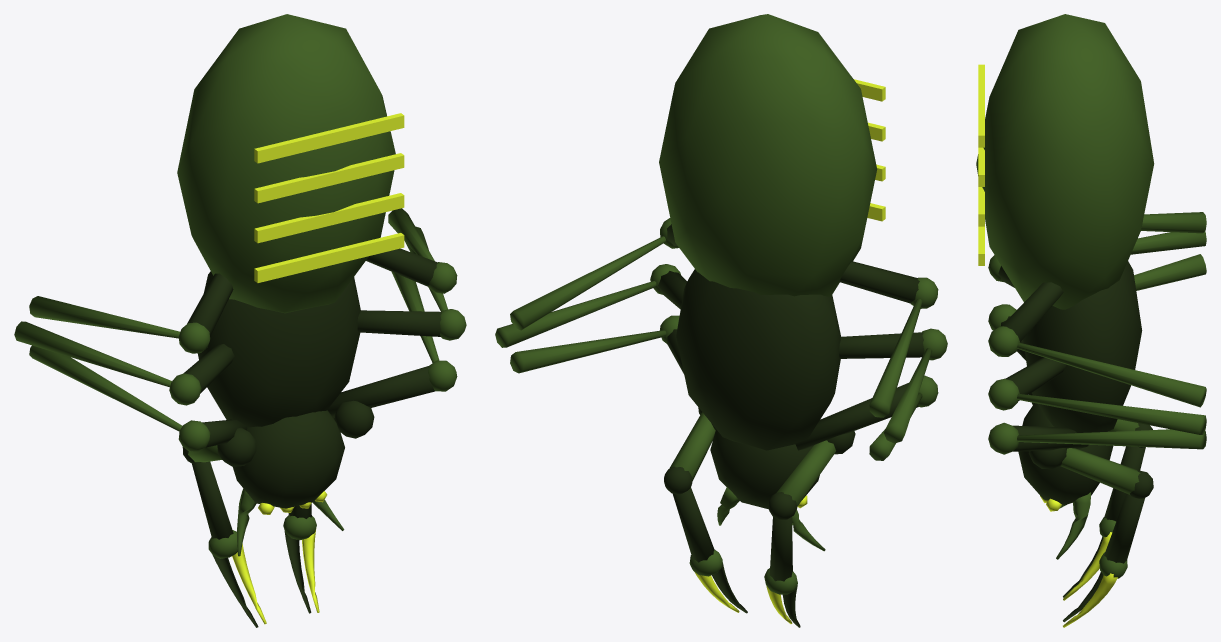
Rendered from shooter-crawler.glb.
3 renders of one model, left to right at view 1: azimuth 30°, elevation 25°; view 2: azimuth 150°, elevation 25°; view 3: azimuth 270°, elevation 25°, orthographic.
Visible parts, largest first — view 1: Body Mesh, Head Mesh, ClawR Elbow Mesh, LegA 2 Down Mesh, LegB 0 Down Mesh, LegB 4 Down Mesh, LegA 1 Mesh, ClawL Elbow Mesh, LegB 3 Mesh, LegA 5 Mesh, ClawR Mesh, LegB 4 Mesh (+11 smaller); view 2: Body Mesh, Head Mesh, ClawL Elbow Mesh, ClawR Elbow Mesh, LegA 5 Down Mesh, LegA 1 Down Mesh, LegB 3 Down Mesh, ClawR Mesh, LegB 0 Mesh, LegB 4 Mesh, LegB 4 Down Mesh, LegA 2 Mesh (+3 smaller); view 3: Body Mesh, Head Mesh, ClawL Elbow Mesh, LegA 5 Down Mesh, LegB 3 Down Mesh, LegA 1 Down Mesh, ClawL Mesh, ClawR Elbow Mesh, LegA 5 Mesh, LegB 0 Down Mesh, LegB 4 Down Mesh, LegA 2 Down Mesh (+6 smaller).
Part boxes in pixels (bbox=[...]): Body Mesh: bbox=[177, 14, 404, 427]; Head Mesh: bbox=[233, 410, 344, 556]; ClawR Elbow Mesh: bbox=[182, 447, 266, 627]; LegA 2 Down Mesh: bbox=[14, 321, 171, 387]; LegB 0 Down Mesh: bbox=[29, 345, 182, 431]; LegB 4 Down Mesh: bbox=[29, 296, 180, 338]; LegA 1 Mesh: bbox=[327, 366, 435, 417]; ClawL Elbow Mesh: bbox=[283, 504, 319, 613]; LegB 3 Mesh: bbox=[357, 310, 441, 336]; LegA 5 Mesh: bbox=[366, 248, 438, 286]; ClawR Mesh: bbox=[188, 427, 256, 466]; LegB 4 Mesh: bbox=[187, 273, 233, 336]; Body Mesh: bbox=[659, 14, 885, 450]; Head Mesh: bbox=[710, 429, 825, 551]; ClawL Elbow Mesh: bbox=[664, 466, 747, 613]; ClawR Elbow Mesh: bbox=[764, 492, 800, 627]; LegA 5 Down Mesh: bbox=[510, 236, 666, 330]; LegA 1 Down Mesh: bbox=[510, 330, 666, 373]; LegB 3 Down Mesh: bbox=[495, 281, 656, 347]; ClawR Mesh: bbox=[776, 431, 855, 506]; LegB 0 Mesh: bbox=[795, 383, 918, 450]; LegB 4 Mesh: bbox=[839, 261, 919, 303]; LegB 4 Down Mesh: bbox=[869, 298, 922, 417]; LegA 2 Mesh: bbox=[839, 332, 924, 358]; Body Mesh: bbox=[976, 14, 1154, 432]; Head Mesh: bbox=[1018, 403, 1113, 559]; ClawL Elbow Mesh: bbox=[1063, 470, 1153, 627]; LegA 5 Down Mesh: bbox=[1017, 342, 1206, 407]; LegB 3 Down Mesh: bbox=[1017, 393, 1206, 434]; LegA 1 Down Mesh: bbox=[1017, 429, 1206, 449]; ClawL Mesh: bbox=[1028, 448, 1140, 494]; ClawR Elbow Mesh: bbox=[1063, 423, 1152, 600]; LegA 5 Mesh: bbox=[1002, 282, 1063, 342]; LegB 0 Down Mesh: bbox=[1134, 254, 1206, 290]; LegB 4 Down Mesh: bbox=[1141, 212, 1206, 233]; LegA 2 Down Mesh: bbox=[1131, 231, 1206, 254].
Size of the model in its own units: 1.4 by 1.97 by 0.689.
Materials: 2 (2 with a texture image).
